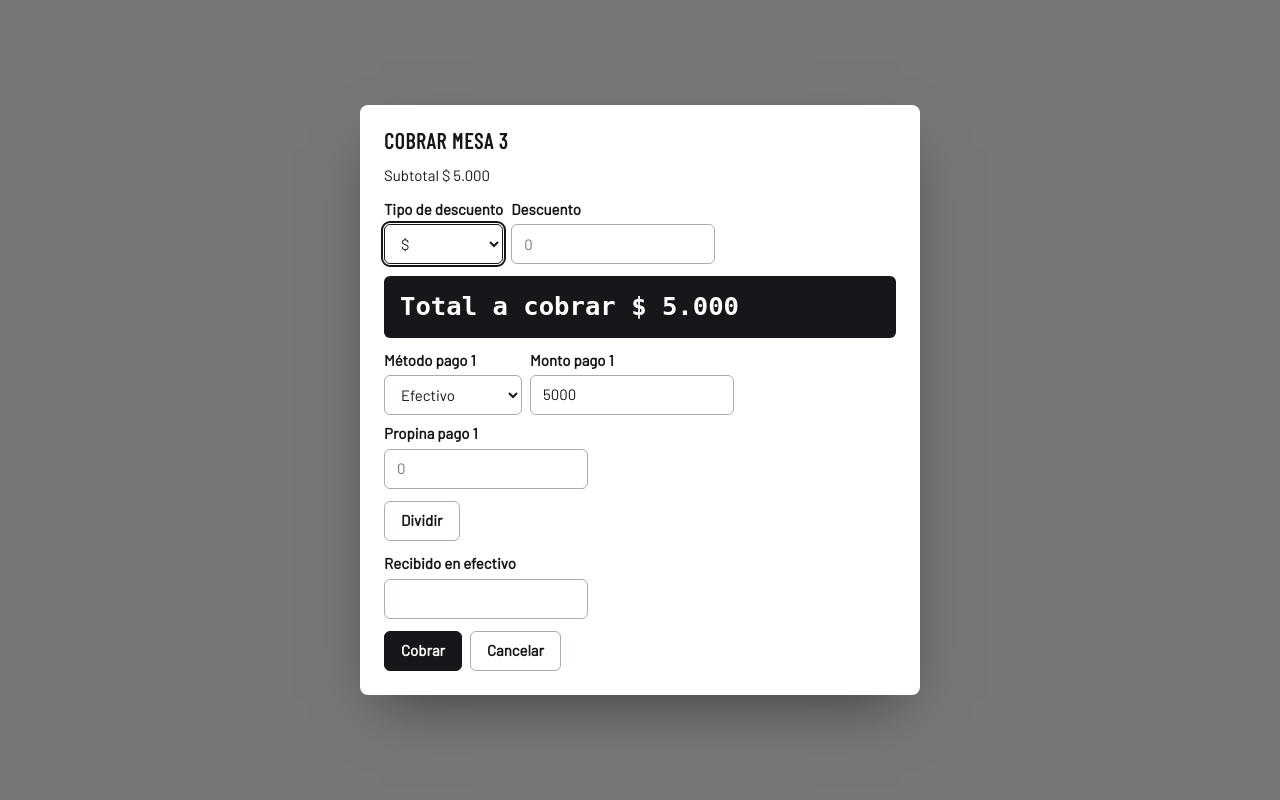
Test: si la caja está cerrada muestra el aviso
The image size is (1280, 800).
Click the button "Cobrar". click: (423, 651)
box: top-left (384, 631), bottom-right (462, 671)
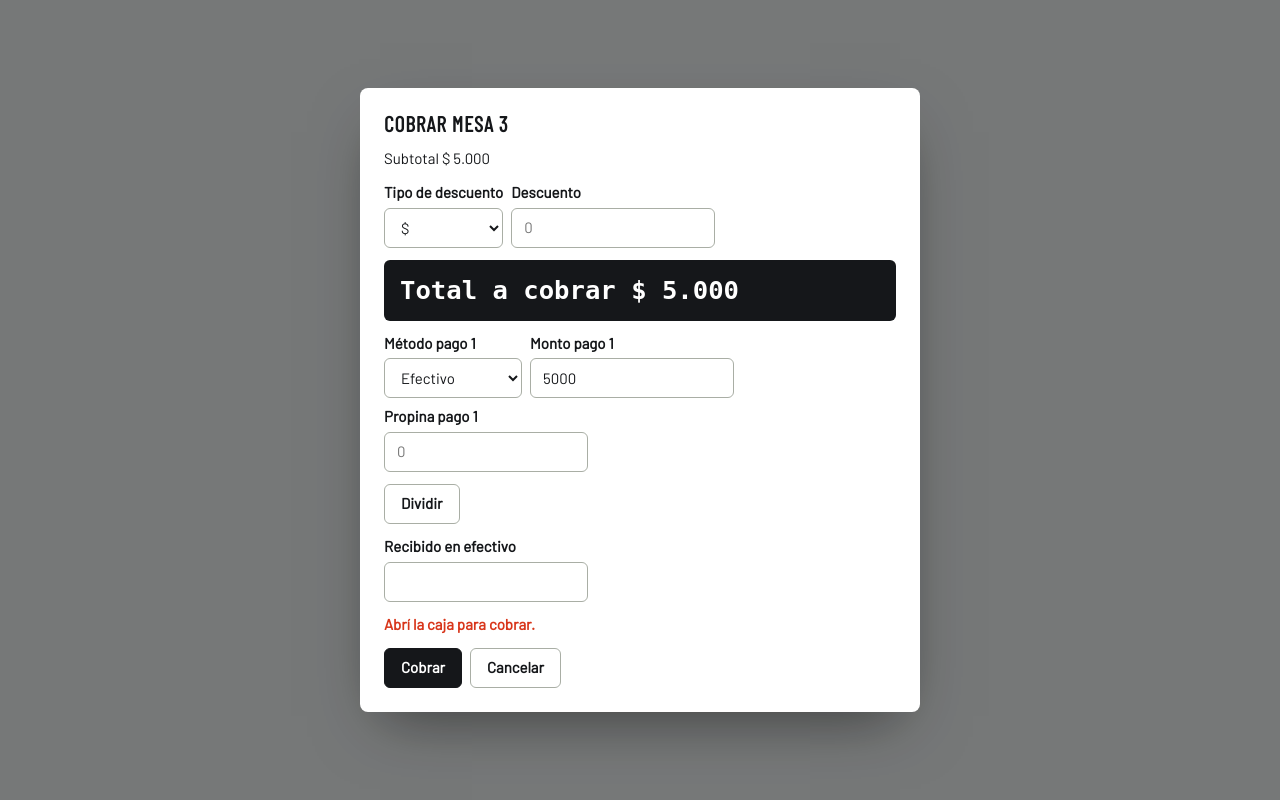
Check: the message reads "Abrí la caja para cobrar.", box top-left (384, 615), bottom-right (535, 633)
